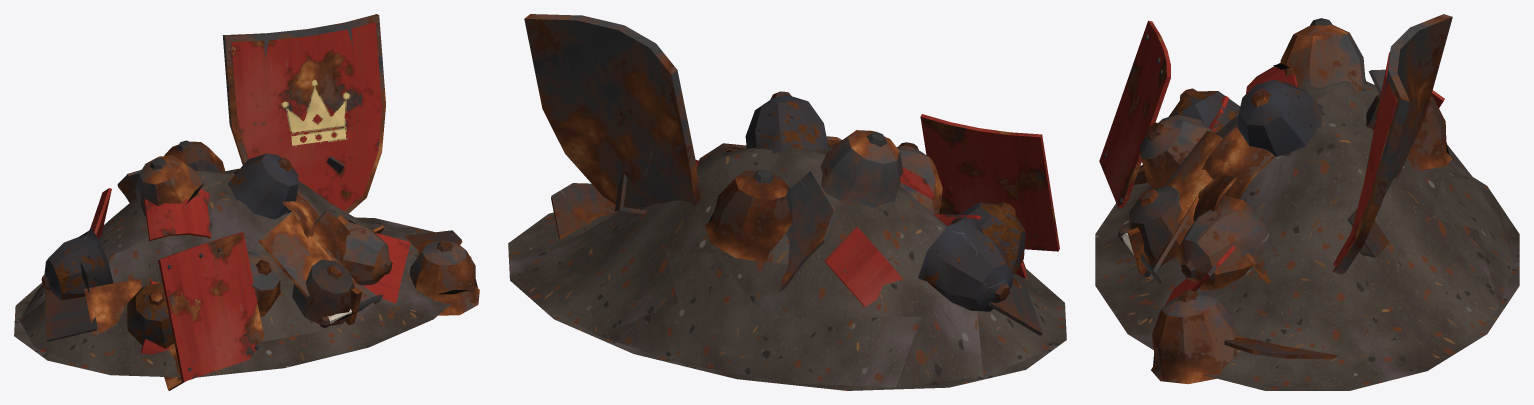
The model's file is Broken_Armor_Heap.glb.
3 views of the same model, side by side, from view 1: azimuth 30°, elevation 25°; view 2: azimuth 150°, elevation 25°; view 3: azimuth 270°, elevation 25° (orthographic). The views are drawn at different scales.
Visible parts, largest first — view 1: Broken_Armor_Heap; view 2: Broken_Armor_Heap; view 3: Broken_Armor_Heap.
Boxes of the visible parts, x1,y1,x2,y2 form: Broken_Armor_Heap: [14, 14, 479, 390]; Broken_Armor_Heap: [508, 14, 1066, 390]; Broken_Armor_Heap: [1095, 14, 1519, 390].
Size of the model in its own units: 1.94 by 1.01 by 1.33.
Materials: 8 (7 with a texture image).
